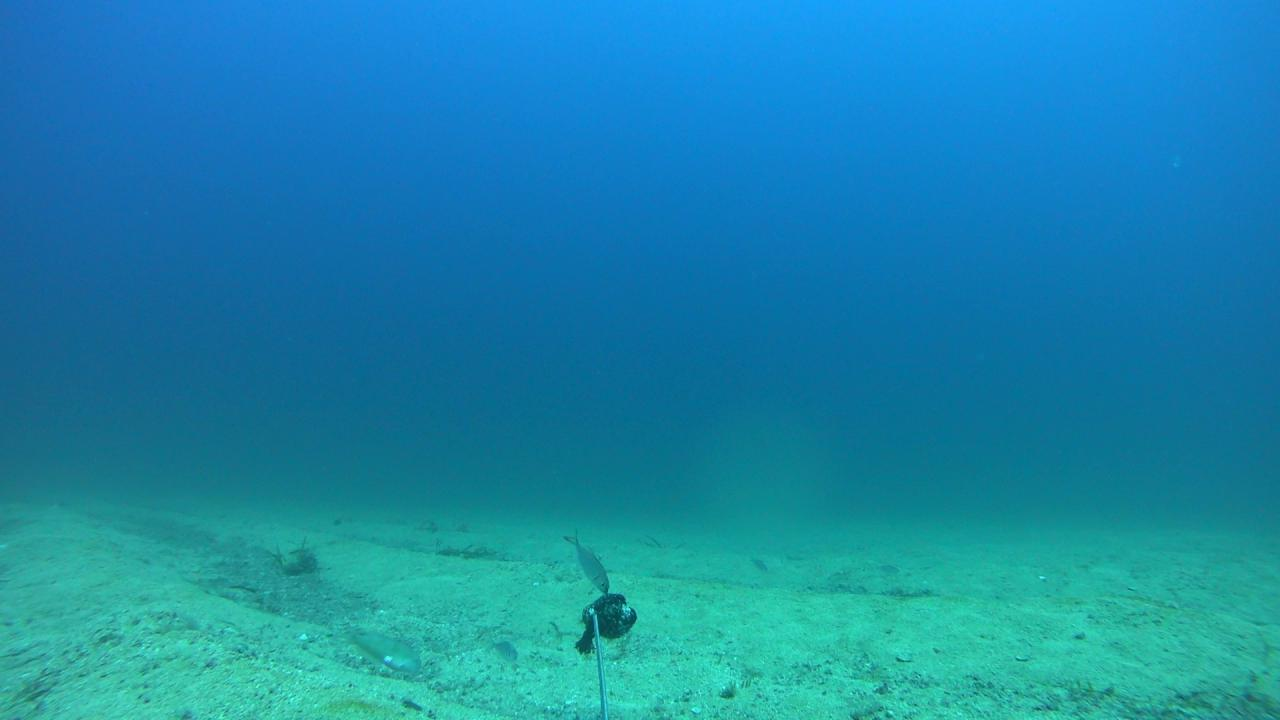pagellus: (563, 527, 608, 594), (482, 633, 520, 668)
raor: (344, 624, 424, 676)
